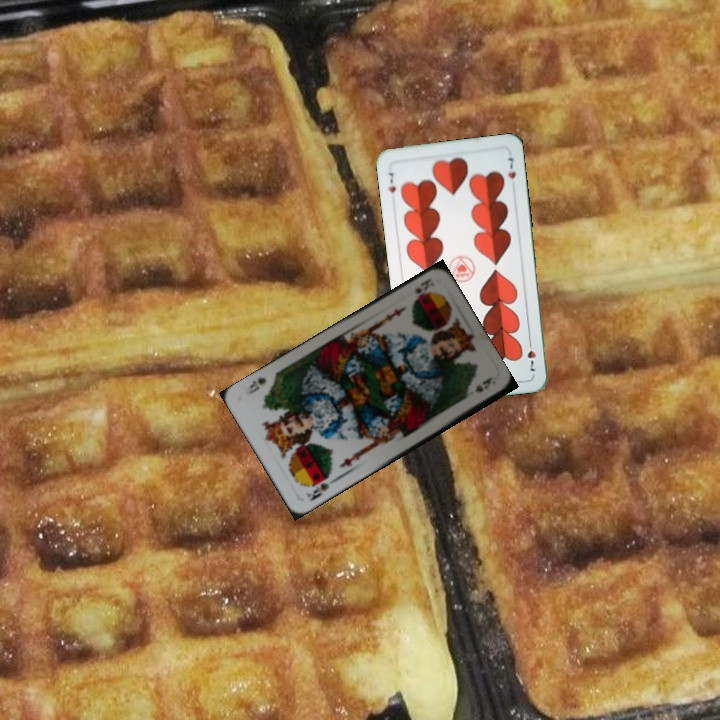H7: (523, 336, 539, 374), (384, 168, 398, 195)
SK: (301, 472, 332, 504), (408, 274, 438, 303)
